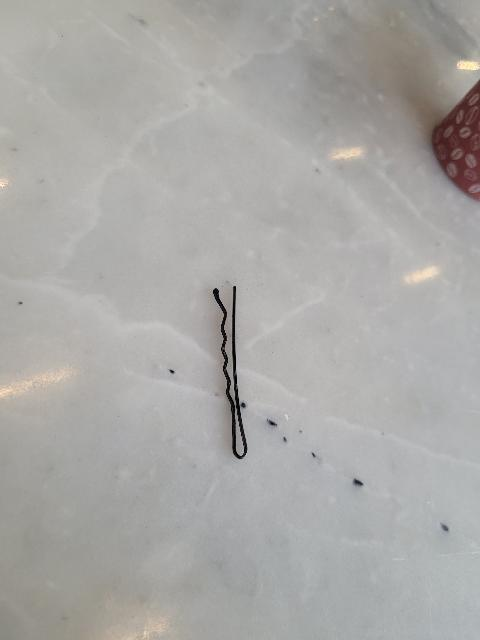Metal: (201, 281, 271, 472)
